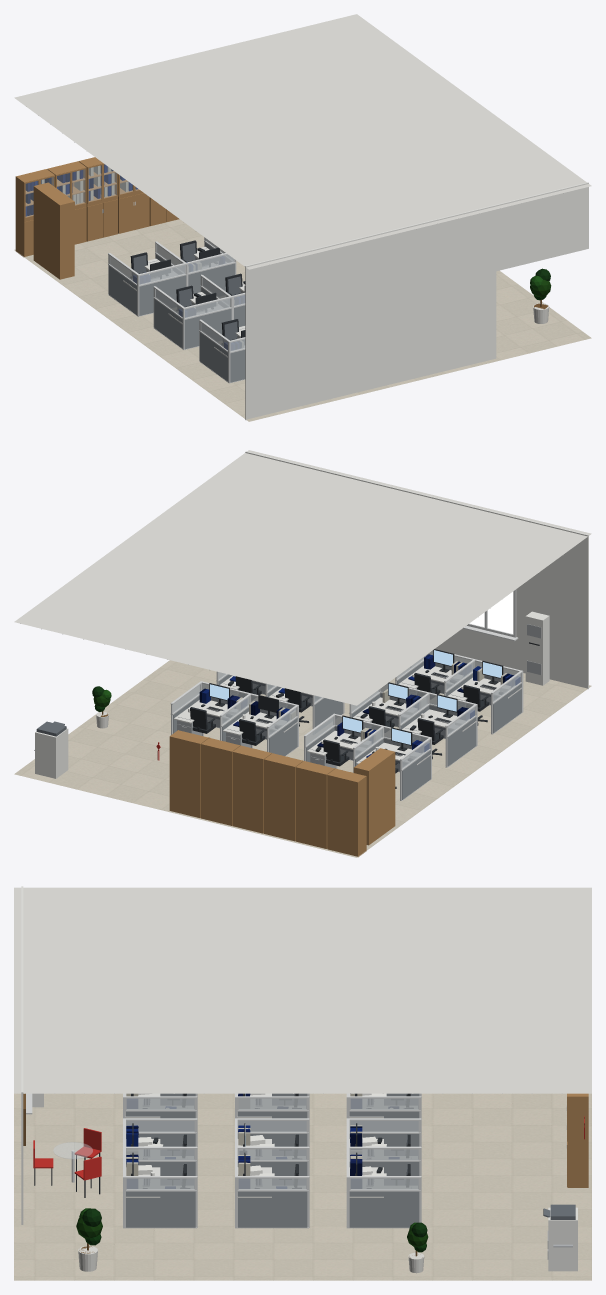
The model's file is Office.glb.
The picture shows the model from 3 angles, top to bottom: view 1: azimuth 30°, elevation 25°; view 2: azimuth 150°, elevation 25°; view 3: azimuth 270°, elevation 25°; orthographic projection. The views are drawn at different scales.
Visible parts, largest first — view 1: Ceiling, AirConditioner, Floor, Cabinets, Partitions, CabinetFolders, Chair_0, Plants; view 2: Ceiling, Cabinets, Floor, AirConditioner, Partitions, Desks, CabinetFolders, Monitors, DeskClutter, SouthWindow, Chair_0, Plants; view 3: Ceiling, Floor, Partitions, Cabinets, AirConditioner, Desks, CabinetFolders, Plants, DeskClutter, ChineseKnot, Chair_0.
Boxes of the visible parts, left/top/right/bottom form: Ceiling: left=14, top=14, right=591, bottom=269; AirConditioner: left=130, top=182, right=588, bottom=420; Floor: left=14, top=219, right=591, bottom=421; Cabinets: left=15, top=157, right=245, bottom=383; Partitions: left=109, top=238, right=245, bottom=382; CabinetFolders: left=25, top=164, right=244, bottom=349; Chair_0: left=133, top=243, right=241, bottom=340; Plants: left=530, top=268, right=551, bottom=323; Ceiling: left=14, top=450, right=591, bottom=705; Cabinets: left=169, top=589, right=523, bottom=857; Floor: left=14, top=651, right=591, bottom=857; AirConditioner: left=34, top=451, right=588, bottom=788; Partitions: left=173, top=651, right=521, bottom=799; Desks: left=174, top=665, right=521, bottom=764; CabinetFolders: left=199, top=654, right=520, bottom=757; Monitors: left=210, top=650, right=501, bottom=744; DeskClutter: left=188, top=670, right=510, bottom=760; SouthWindow: left=469, top=591, right=513, bottom=633; Chair_0: left=36, top=680, right=497, bottom=764; Plants: left=92, top=686, right=111, bottom=728; Ceiling: left=14, top=887, right=591, bottom=1093; Floor: left=14, top=1093, right=591, bottom=1280; Partitions: left=126, top=1093, right=419, bottom=1227; Cabinets: left=26, top=1093, right=588, bottom=1228; AirConditioner: left=21, top=886, right=577, bottom=1271; Desks: left=125, top=1093, right=417, bottom=1197; CabinetFolders: left=126, top=1093, right=398, bottom=1188; Plants: left=76, top=1208, right=428, bottom=1273; DeskClutter: left=138, top=1093, right=412, bottom=1188; ChineseKnot: left=33, top=1116, right=584, bottom=1180; Chair_0: left=182, top=1093, right=575, bottom=1219.
Size of the model in its own units: 9.79 by 4.2 by 11.62.
Materials: 22 (2 with a texture image).
